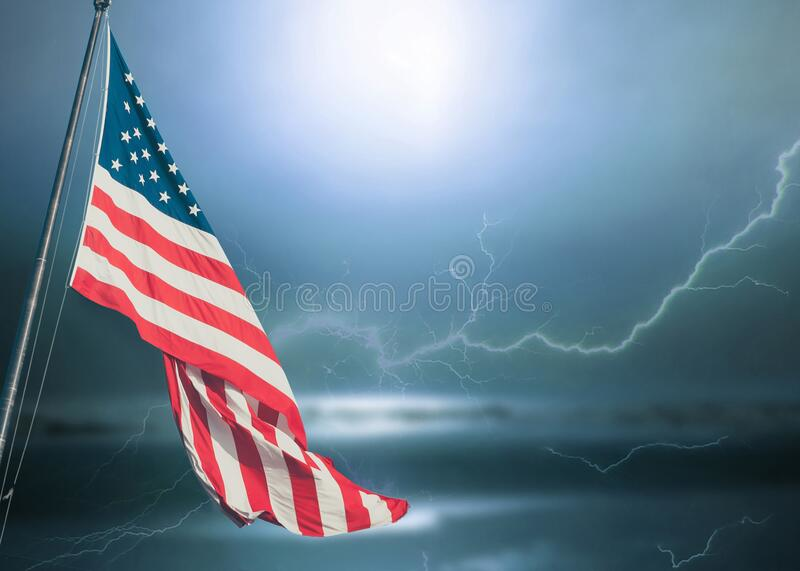America flag: (70, 16, 434, 541)
